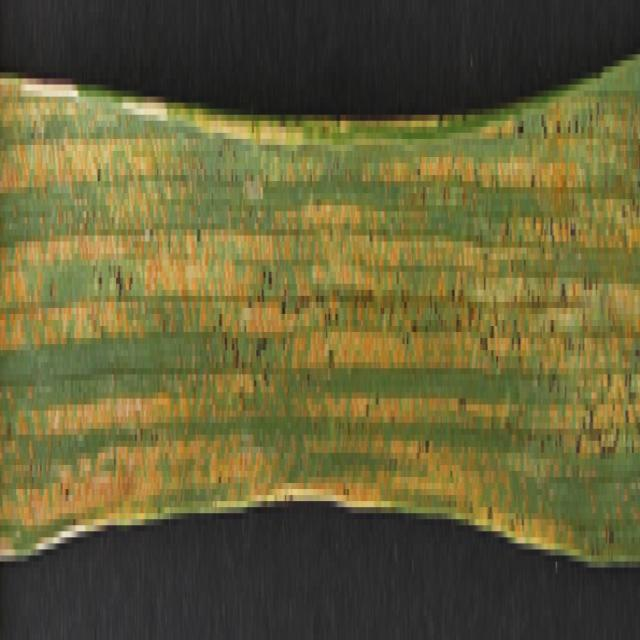leaf rust: (1, 79, 639, 562)
